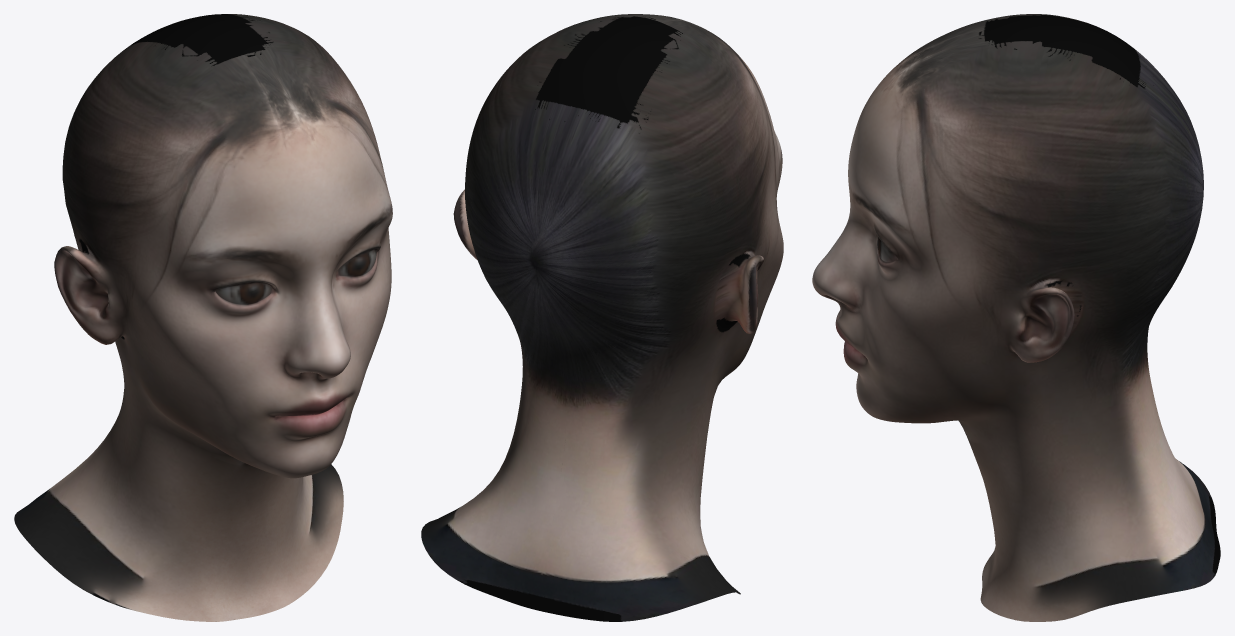
3 renders of one model, left to right at view 1: azimuth 30°, elevation 25°; view 2: azimuth 150°, elevation 25°; view 3: azimuth 270°, elevation 25°, orthographic. The views are drawn at different scales.
Parts seen in each view (by area): view 1: FBHead; view 2: FBHead; view 3: FBHead.
Boxes of the visible parts, x1,y1,x2,y2 form: FBHead: (14,14,392,621); FBHead: (421,14,783,621); FBHead: (812,14,1220,621).
Bounding box in the file's own units: 1.52 × 2.66 × 1.75.
1 material, 1 textured.
